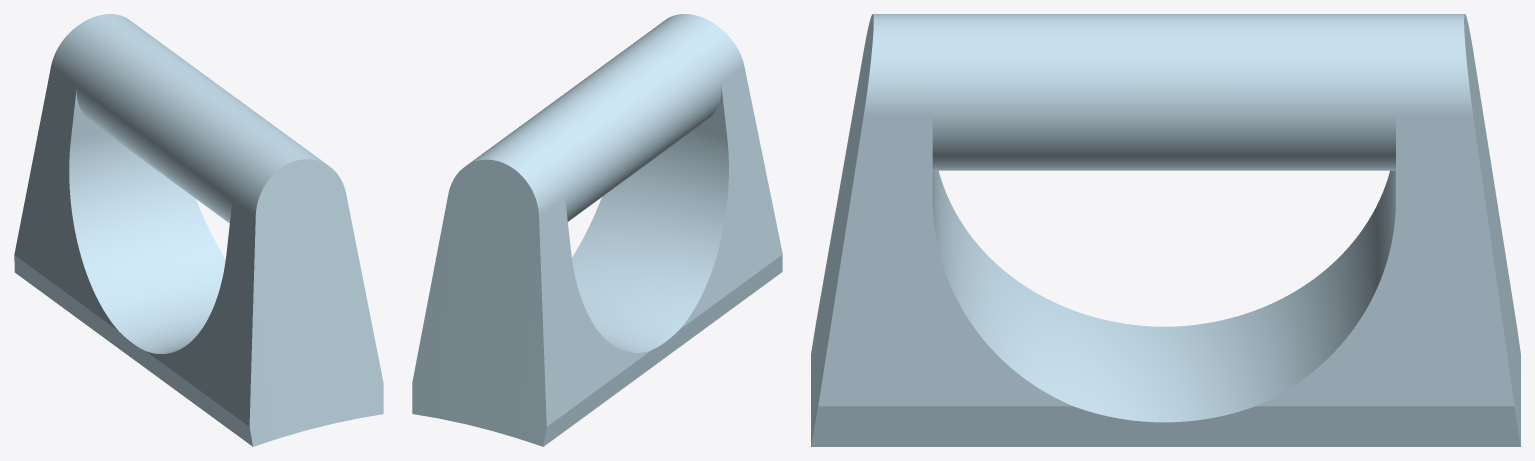
The model's file is knob.glb.
The picture shows the model from 3 angles, left to right: view 1: azimuth 30°, elevation 25°; view 2: azimuth 150°, elevation 25°; view 3: azimuth 270°, elevation 25°; orthographic projection. The views are drawn at different scales.
Parts seen in each view (by area): view 1: Part 1.001; view 2: Part 1.001; view 3: Part 1.001.
Boxes of the visible parts, x1,y1,x2,y2 form: Part 1.001: (14, 14, 383, 446); Part 1.001: (412, 14, 782, 446); Part 1.001: (811, 14, 1520, 446).
Size of the model in its own units: 0.2021 by 0.3655 by 0.6188.
